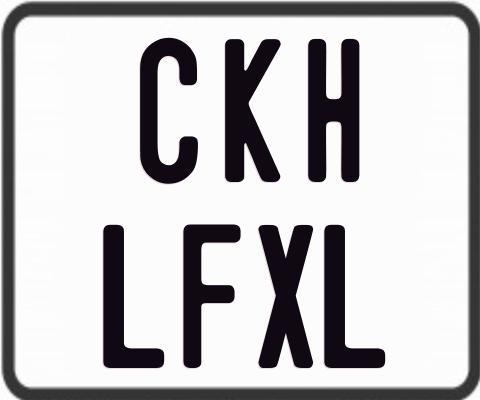C: (139, 36, 202, 187)
F: (183, 222, 246, 365)
H: (305, 37, 357, 184)
K: (224, 37, 282, 181)
L: (102, 225, 169, 373), (321, 224, 385, 369)
X: (257, 224, 312, 369)
